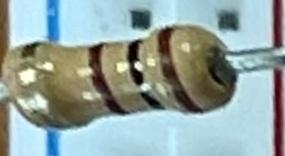Black: (122, 39, 166, 112)
Brown: (150, 26, 209, 116), (79, 43, 129, 117)
Side-Gold: (8, 41, 76, 138)
